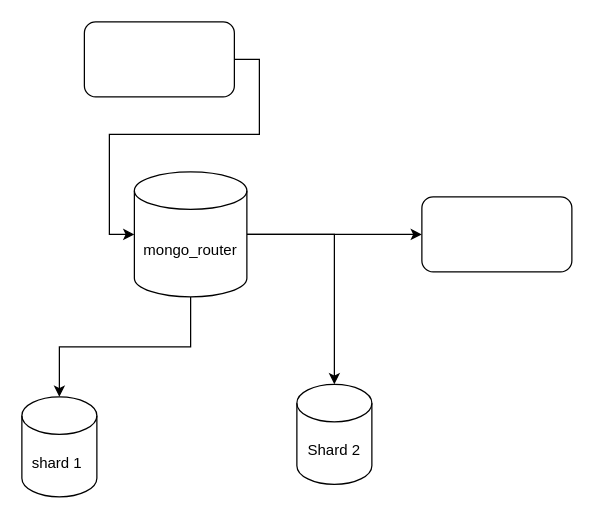
Some shapes in this 594 by 519 pixel diagram are drawn without their labels. The centre of each missing label's shape, as x and y in pixels:
"config svr" goes at (496,234).
"pymongo-api" goes at (158,59).
